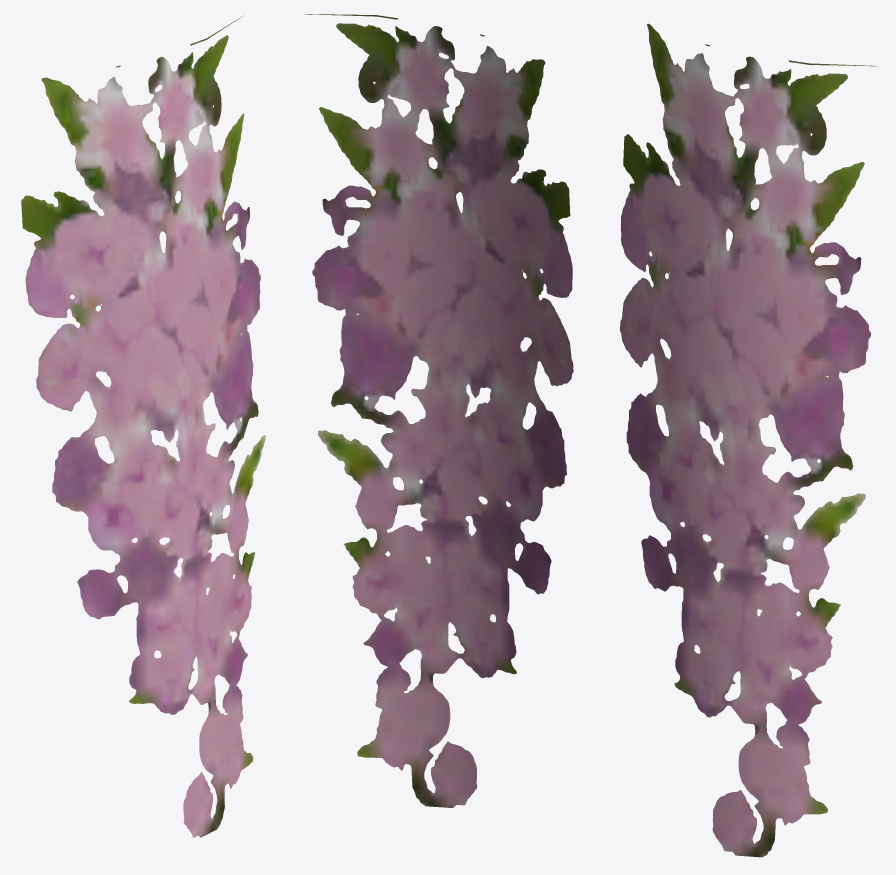
The model's file is liemo_plant_10 #54135.fbx.
3 renders of one model, left to right at view 1: azimuth 30°, elevation 25°; view 2: azimuth 150°, elevation 25°; view 3: azimuth 330°, elevation 25°, orthographic. The views are drawn at different scales.
Parts seen in each view (by area): view 1: liemo_plant_10; view 2: liemo_plant_10; view 3: liemo_plant_10.
Boxes of the visible parts, left/top/right/bottom form: liemo_plant_10: left=21, top=15, right=265, bottom=837; liemo_plant_10: left=304, top=14, right=573, bottom=807; liemo_plant_10: left=620, top=23, right=878, bottom=857.
Bounding box in the file's own units: 0.0285 × 0.0854 × 0.0107.
